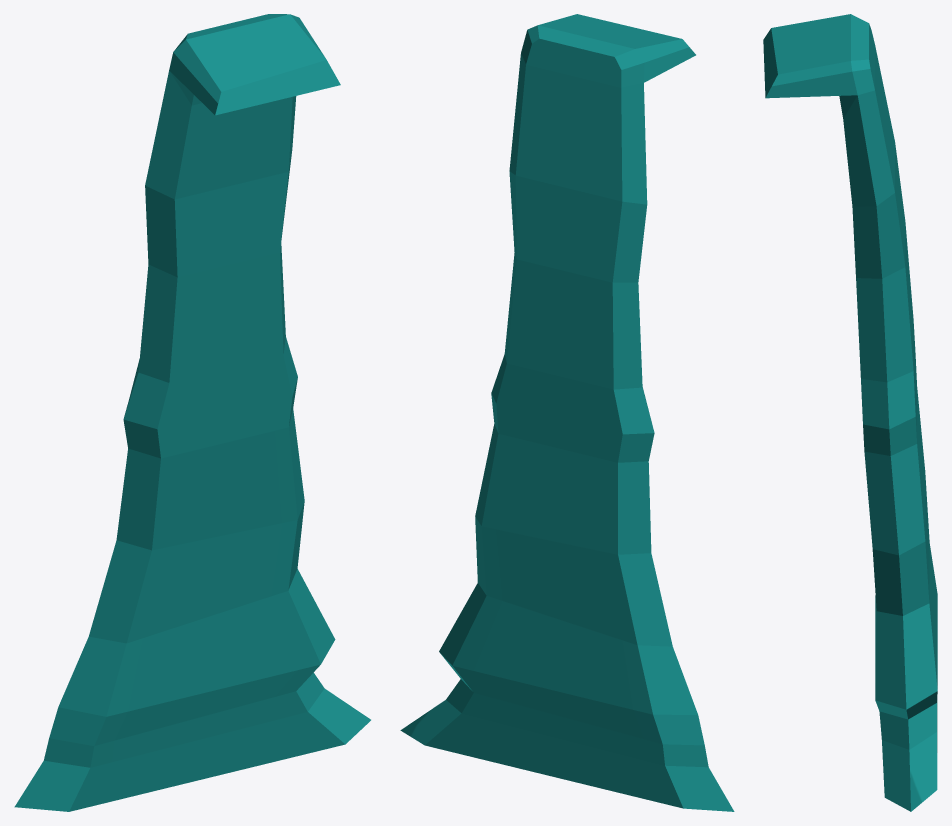
Rendered from CascadaAnimada_000010.obj.
3 renders of one model, left to right at view 1: azimuth 30°, elevation 25°; view 2: azimuth 150°, elevation 25°; view 3: azimuth 270°, elevation 25°, orthographic. The views are drawn at different scales.
Visible parts, largest first — view 1: Cube.053, Cube.054; view 2: Cube.053, Cube.054; view 3: Cube.053, Cube.054.
Part boxes in pixels (left/top/right/bottom): Cube.053: left=14, top=14, right=370, bottom=811; Cube.054: left=169, top=14, right=340, bottom=115; Cube.053: left=400, top=25, right=734, bottom=811; Cube.054: left=538, top=14, right=695, bottom=82; Cube.053: left=839, top=14, right=937, bottom=811; Cube.054: left=763, top=14, right=857, bottom=98.
Bounding box in the file's own units: 136 × 277 × 62.31.
